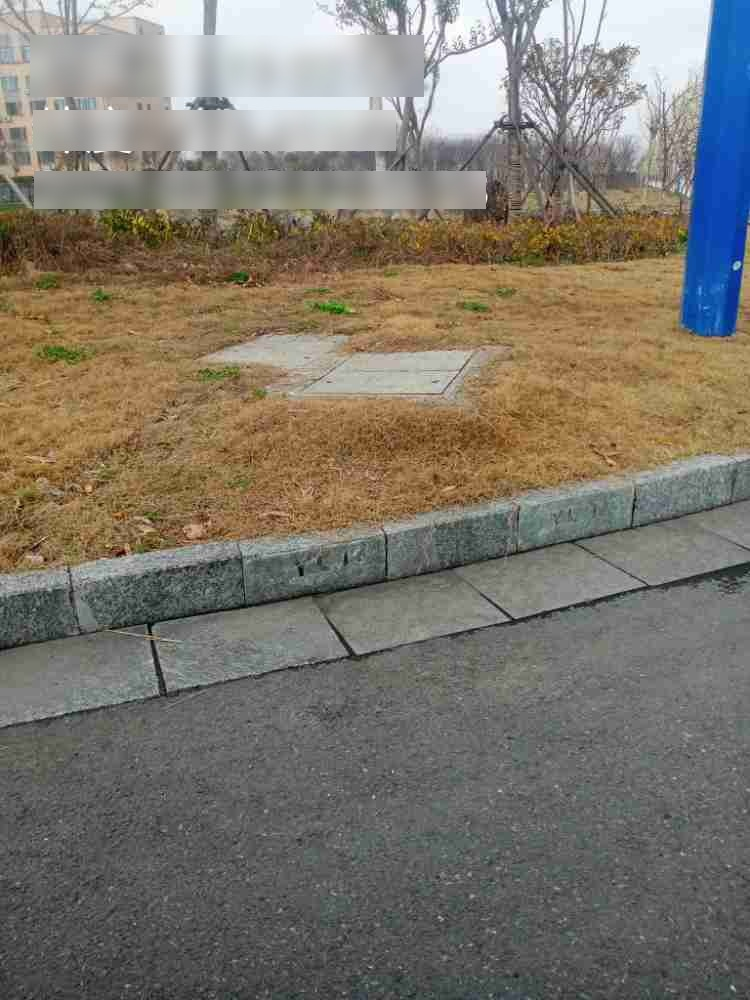good: (226, 302, 505, 398)
